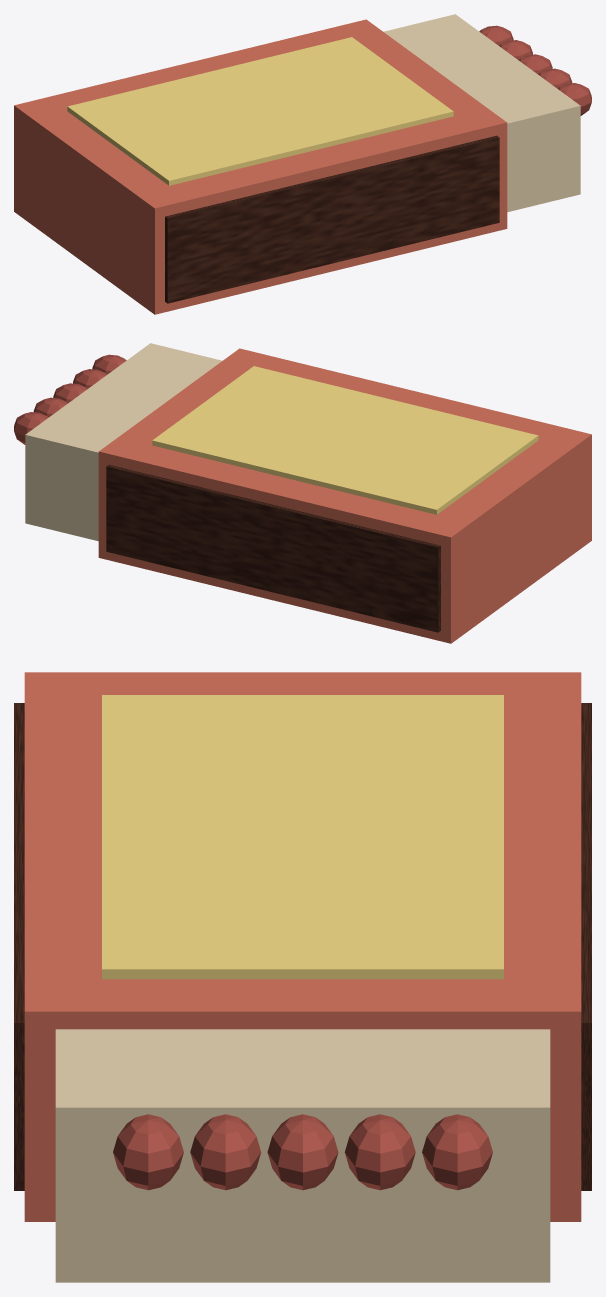
File: kerala_matchbox.glb
3 renders of one model, top to bottom at view 1: azimuth 30°, elevation 25°; view 2: azimuth 150°, elevation 25°; view 3: azimuth 270°, elevation 25°, orthographic. The views are drawn at different scales.
Visible parts, largest first — view 1: Matchbox_Sleeve, Matchbox_Label, Matchbox_Striker_L, Matchbox_InnerTray, Matchstick_Head_0, Matchstick_Head_2, Matchstick_Head_4, Matchstick_Head_1, Matchstick_Head_3; view 2: Matchbox_Sleeve, Matchbox_Label, Matchbox_Striker_R, Matchbox_InnerTray, Matchstick_Head_4, Matchstick_Head_0, Matchstick_Head_2, Matchstick_Head_3, Matchstick_Head_1; view 3: Matchbox_Label, Matchbox_InnerTray, Matchbox_Sleeve, Matchbox_Striker_L, Matchbox_Striker_R, Matchstick_Head_1, Matchstick_Head_3, Matchstick_Head_0, Matchstick_Head_2, Matchstick_Head_4.
Part boxes in pixels (bbox=[...]): Matchbox_Sleeve: bbox=[14, 19, 507, 314]; Matchbox_Label: bbox=[67, 37, 453, 185]; Matchbox_Striker_L: bbox=[165, 135, 499, 303]; Matchbox_InnerTray: bbox=[383, 14, 580, 212]; Matchstick_Head_0: bbox=[557, 83, 591, 115]; Matchstick_Head_2: bbox=[518, 54, 552, 74]; Matchstick_Head_4: bbox=[479, 25, 513, 45]; Matchstick_Head_1: bbox=[538, 68, 572, 88]; Matchstick_Head_3: bbox=[499, 40, 532, 59]; Matchbox_Sleeve: bbox=[98, 348, 591, 643]; Matchbox_Label: bbox=[152, 366, 538, 514]; Matchbox_Striker_R: bbox=[106, 464, 440, 632]; Matchbox_InnerTray: bbox=[25, 343, 222, 541]; Matchstick_Head_4: bbox=[14, 412, 48, 444]; Matchstick_Head_0: bbox=[92, 354, 126, 374]; Matchstick_Head_2: bbox=[53, 383, 87, 403]; Matchstick_Head_3: bbox=[33, 397, 67, 417]; Matchstick_Head_1: bbox=[73, 369, 106, 388]; Matchbox_Label: bbox=[102, 695, 503, 979]; Matchbox_InnerTray: bbox=[55, 1029, 550, 1282]; Matchbox_Sleeve: bbox=[24, 672, 581, 1221]; Matchbox_Striker_L: bbox=[14, 703, 24, 1190]; Matchbox_Striker_R: bbox=[581, 703, 591, 1190]; Matchstick_Head_1: bbox=[190, 1114, 261, 1190]; Matchstick_Head_3: bbox=[344, 1114, 415, 1190]; Matchstick_Head_0: bbox=[113, 1114, 183, 1190]; Matchstick_Head_2: bbox=[267, 1114, 338, 1190]; Matchstick_Head_4: bbox=[422, 1114, 492, 1190].
Bounding box in the file's own units: 0.0691 × 0.0157 × 0.0374.
5 materials, 1 textured.
